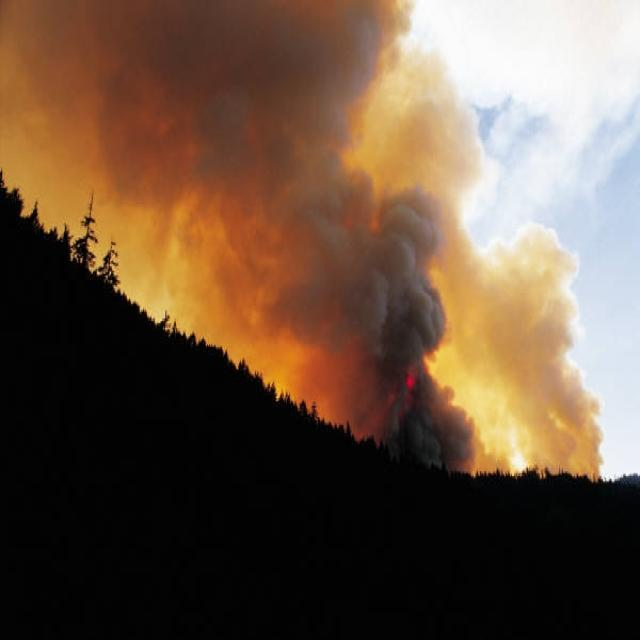Fire: (424, 206, 598, 476)
Smoke: (101, 15, 430, 327)
